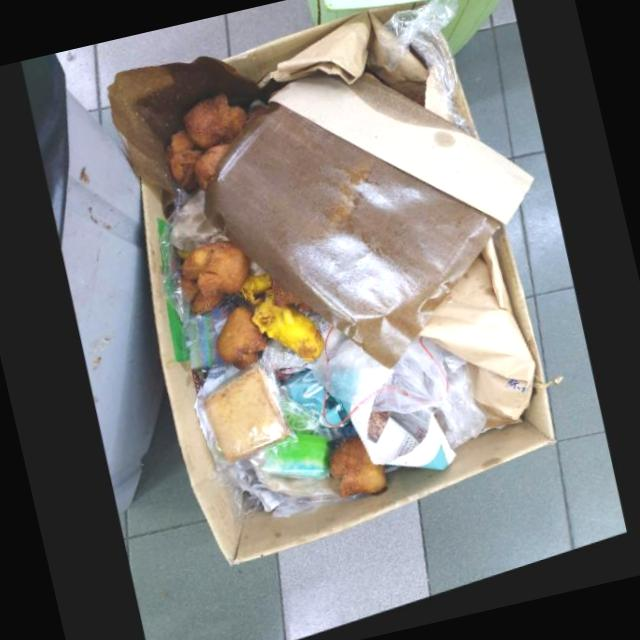giay: (421, 247, 537, 440), (350, 398, 458, 478)
thuc_an_thua: (203, 369, 291, 466), (180, 246, 249, 318), (329, 441, 388, 503), (183, 99, 247, 156), (216, 311, 272, 376), (165, 135, 205, 195), (193, 149, 231, 196)
vo_trai_cay: (240, 278, 324, 367)
